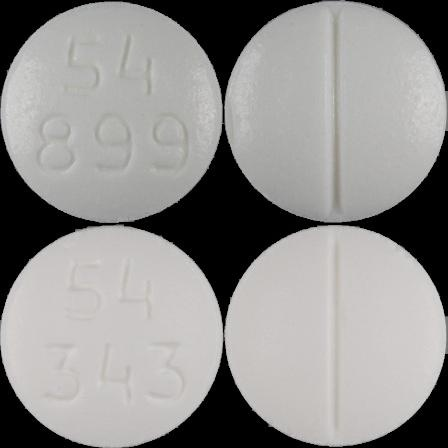55154-4949: (0, 0, 224, 224)
